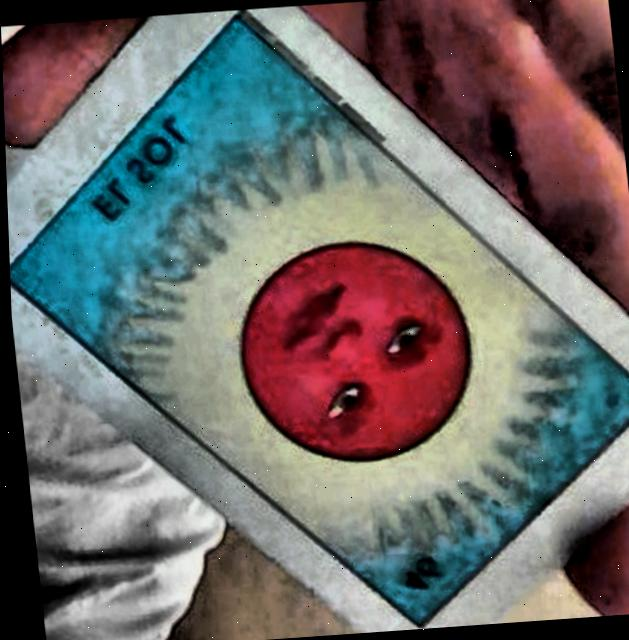El Sol: (8, 14, 629, 625)
